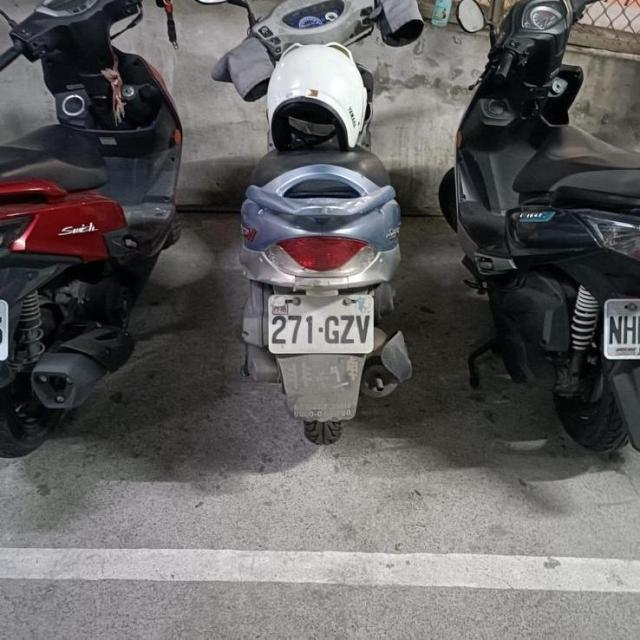W: (264, 284, 376, 358), (593, 284, 640, 366), (0, 282, 16, 366)
